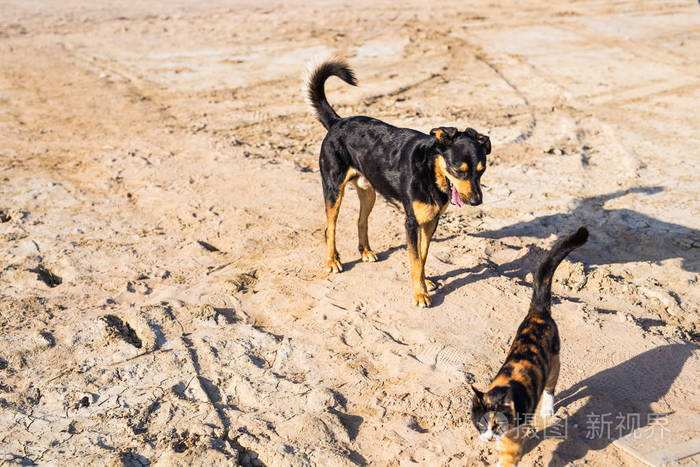cat: (458, 219, 594, 465)
